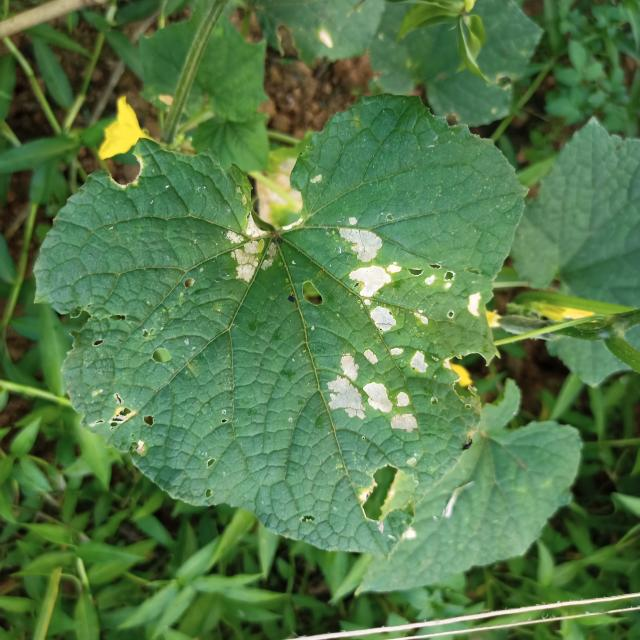disease_cucumber: (321, 209, 446, 456), (218, 208, 292, 296)
